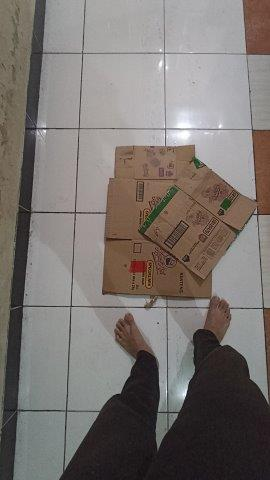kardus: (105, 146, 255, 295)
